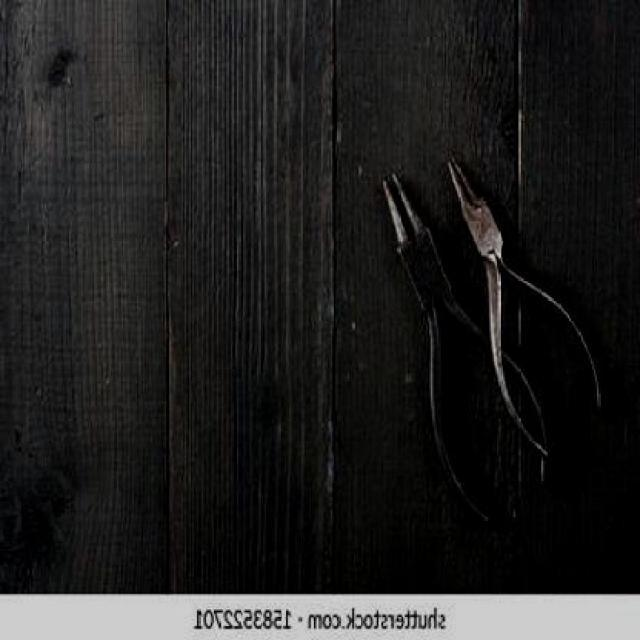pliers: (450, 165, 612, 462)
